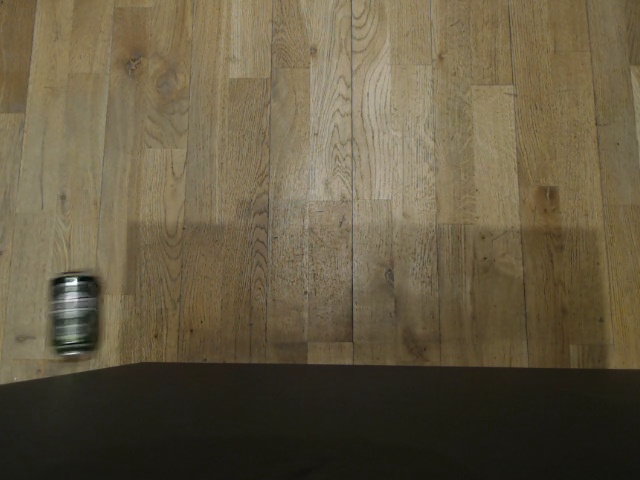beer: (440, 56, 500, 145), (445, 325, 544, 368), (139, 321, 230, 363)
